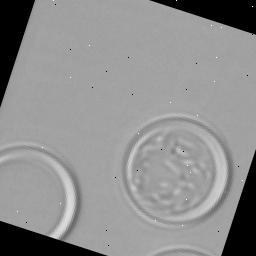picoshell: (118, 113, 232, 229), (0, 141, 80, 239), (145, 244, 213, 256)
